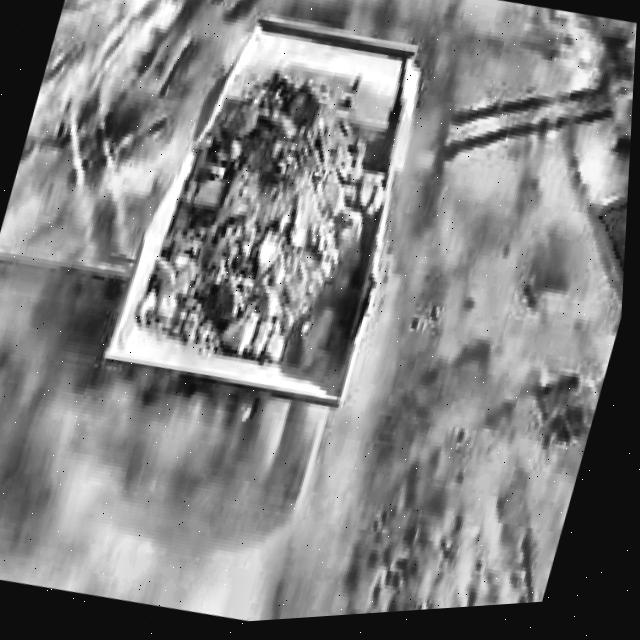dump_truck: (72, 0, 453, 562)
